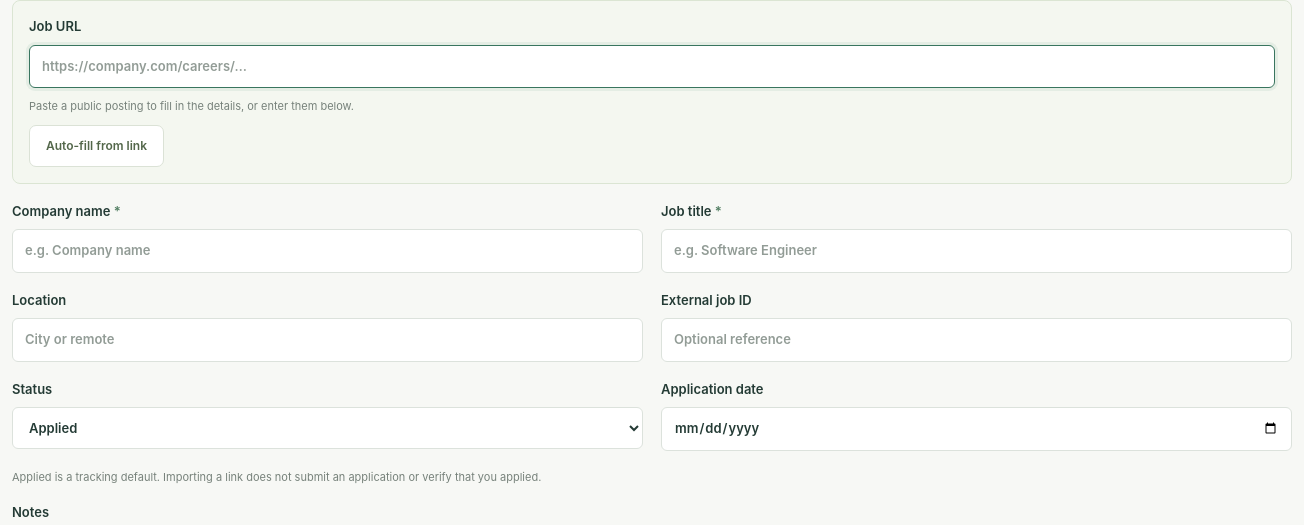
Test: asks for a URL without disabling manual entry
Click the button "Auto-fill from link": (96, 146) x1=29 y1=124 x2=164 y2=166
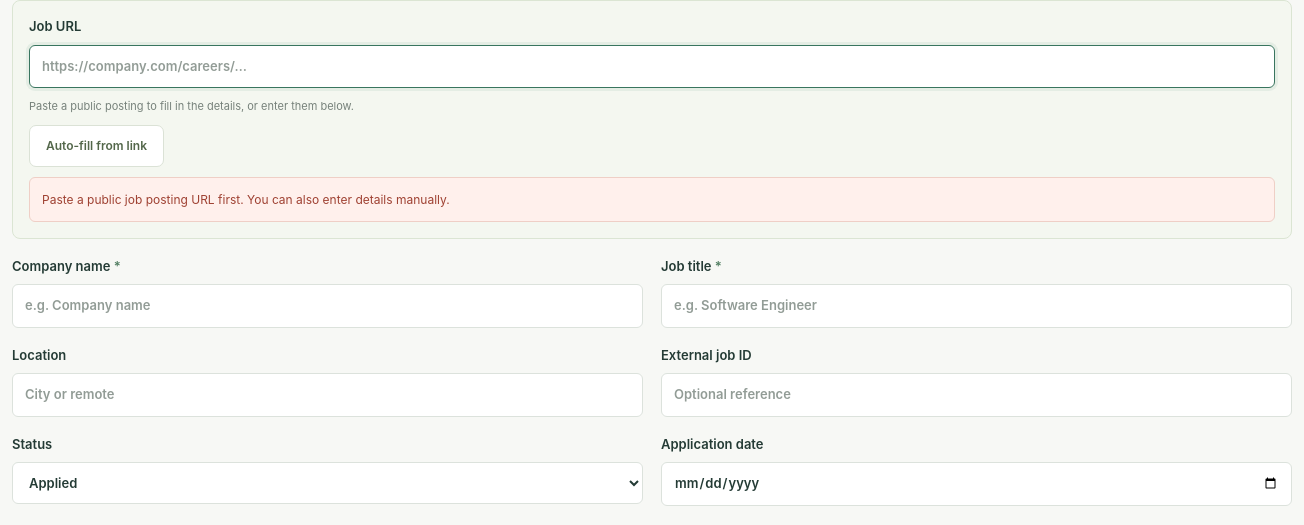
Check: the field labelled "Company name *" is enabled, box x1=12 y1=284 x2=643 y2=328
Check: the message shows "Paste a public job posting URL first", box x1=42 y1=192 x2=450 y2=206
